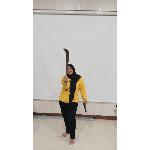Golok: (60, 46, 70, 86)
Pistol: (82, 102, 88, 114)
